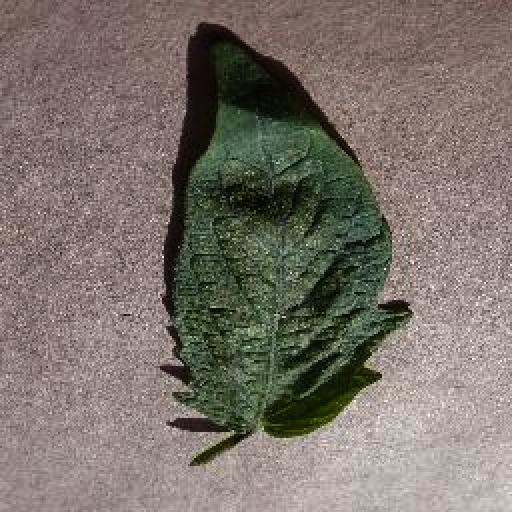disease_tomato: (174, 37, 412, 439)
